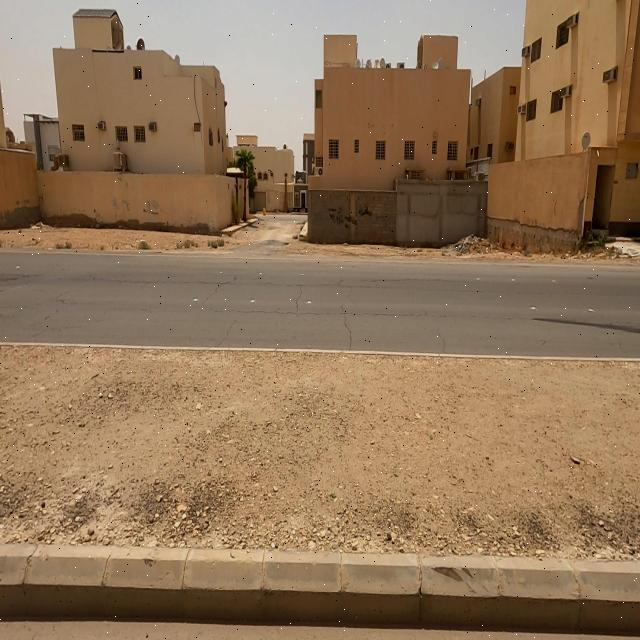Graffiti: (330, 209, 359, 235), (361, 206, 373, 222)
